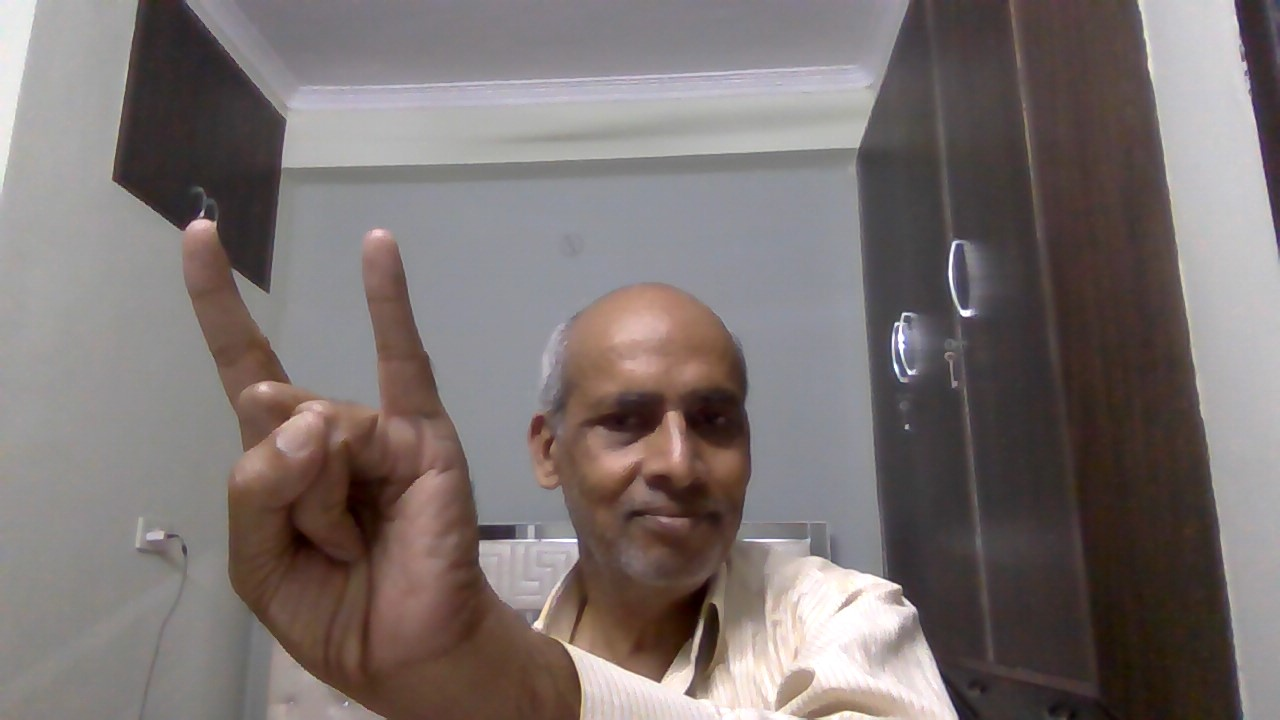Select All: (170, 210, 494, 700)
